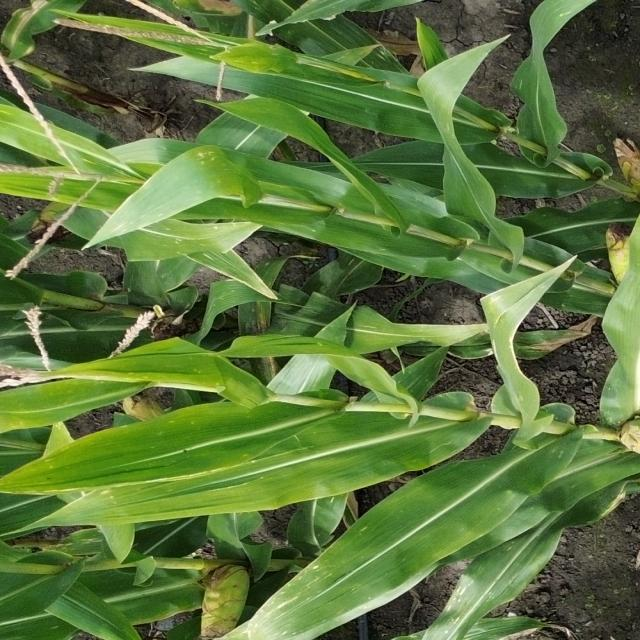gray-leaf-spot: (352, 35, 403, 70), (60, 529, 114, 556)
northern-leaf-blight: (6, 0, 50, 44)
southern-leaf-blight: (94, 432, 206, 480), (258, 570, 322, 636), (437, 582, 495, 634), (159, 222, 233, 252), (399, 353, 443, 399), (189, 146, 236, 189), (200, 282, 247, 316)
